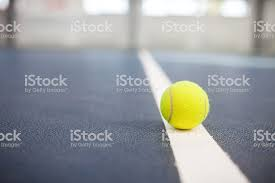tennis_ball: (159, 79, 210, 132)
